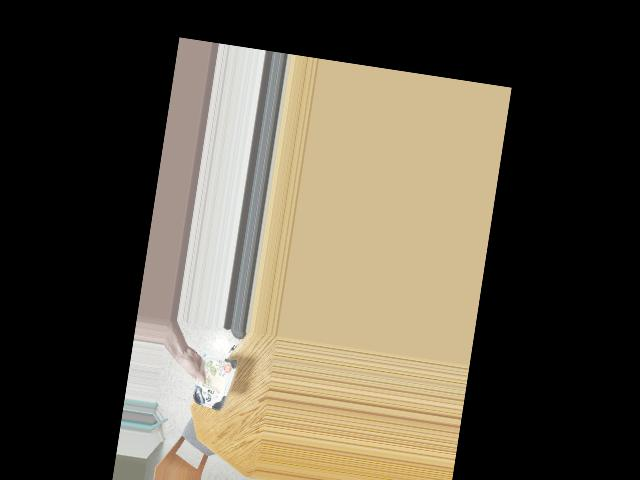cheese: (193, 357, 231, 410)
